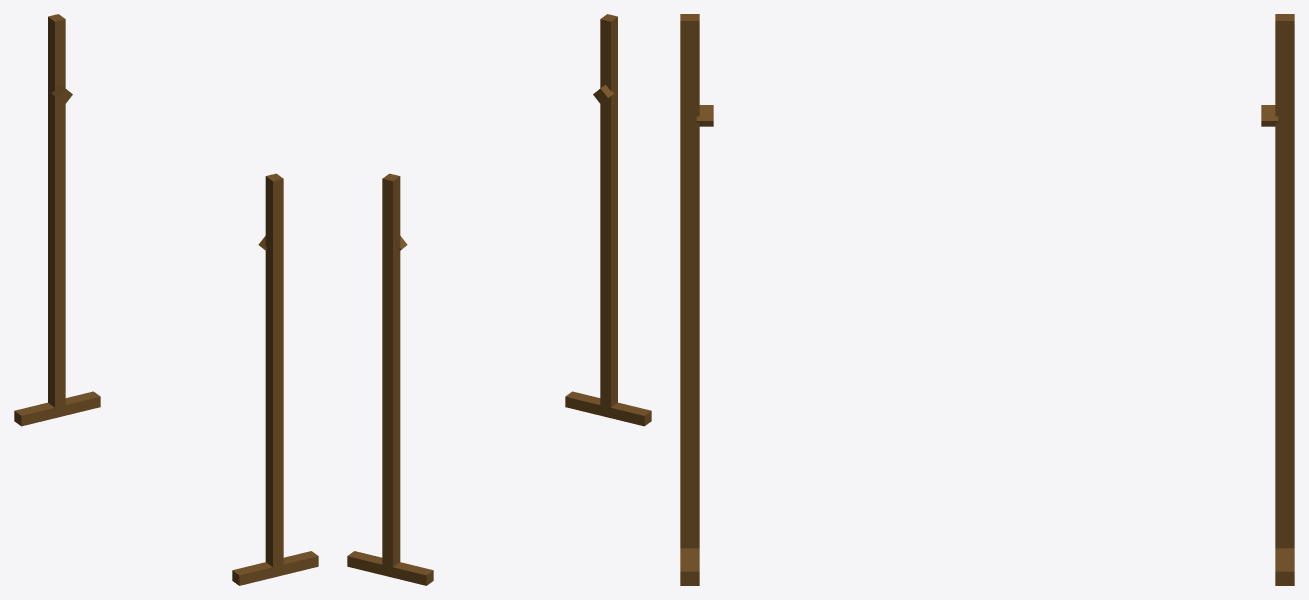
Rendered from BlackBoard_Structure_Answer.fbx.
The picture shows the model from 3 angles, left to right: view 1: azimuth 30°, elevation 25°; view 2: azimuth 150°, elevation 25°; view 3: azimuth 270°, elevation 25°; orthographic projection. The views are drawn at different scales.
Parts seen in each view (by area): view 1: BlackBoard_Structure_Answer; view 2: BlackBoard_Structure_Answer; view 3: BlackBoard_Structure_Answer.
Part boxes in pixels (left/top/right/bottom): BlackBoard_Structure_Answer: left=14, top=14, right=318, bottom=585; BlackBoard_Structure_Answer: left=347, top=14, right=651, bottom=585; BlackBoard_Structure_Answer: left=680, top=14, right=1294, bottom=585.
Bounding box in the file's own units: 501 × 102 × 487.
